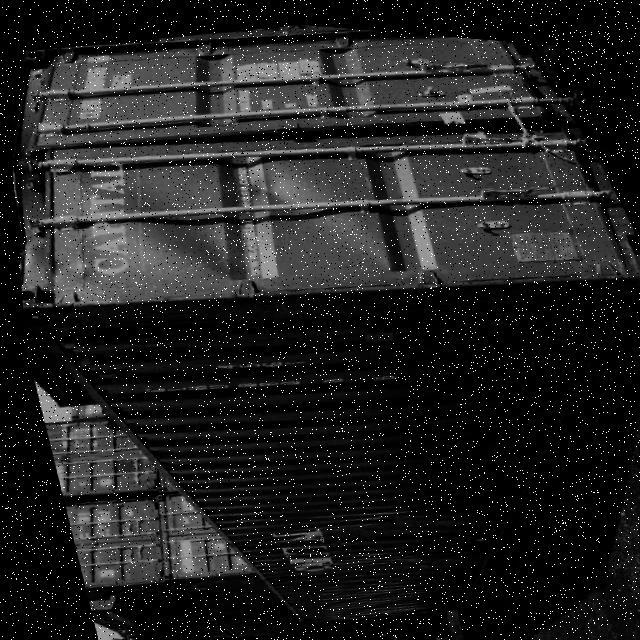rust: (12, 179, 623, 392)
